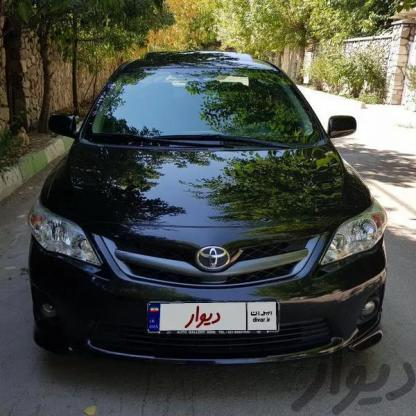Car: (24, 54, 390, 374)
